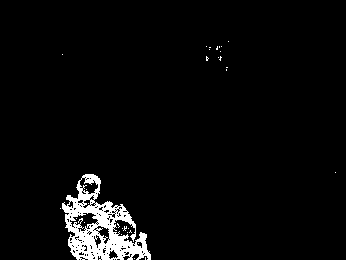person: (64, 173, 106, 260)
